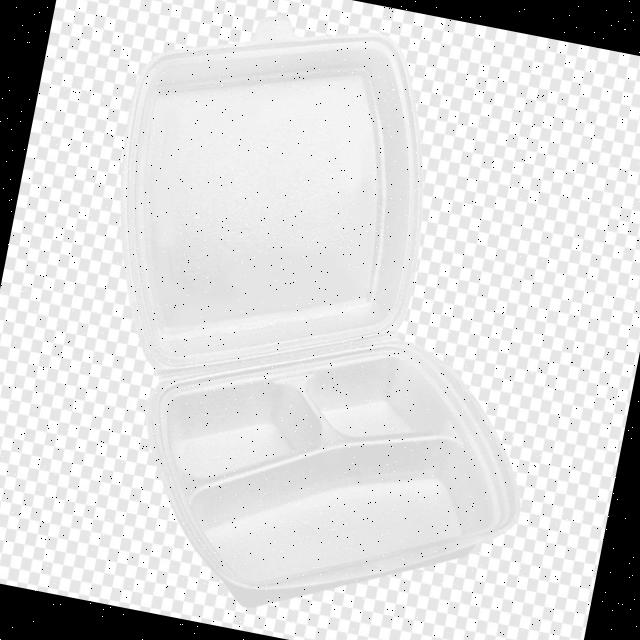styrofoam: (40, 0, 606, 640)
